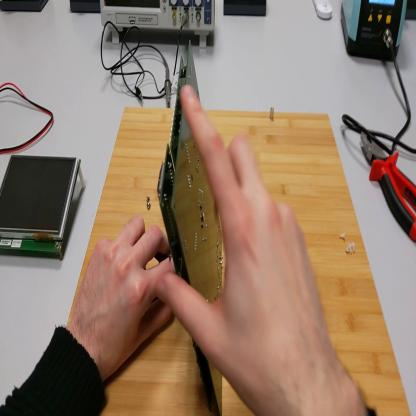hand: (153, 85, 346, 400), (69, 215, 175, 378)
low voltage board: (157, 40, 226, 416)
oscilloscope: (100, 2, 217, 48)
oscilloscope probe tip: (162, 57, 175, 111)
pliers: (358, 131, 416, 244)
socket: (2, 2, 51, 17), (71, 1, 103, 15)
welder station: (340, 1, 407, 62)
working area: (89, 111, 411, 414)
